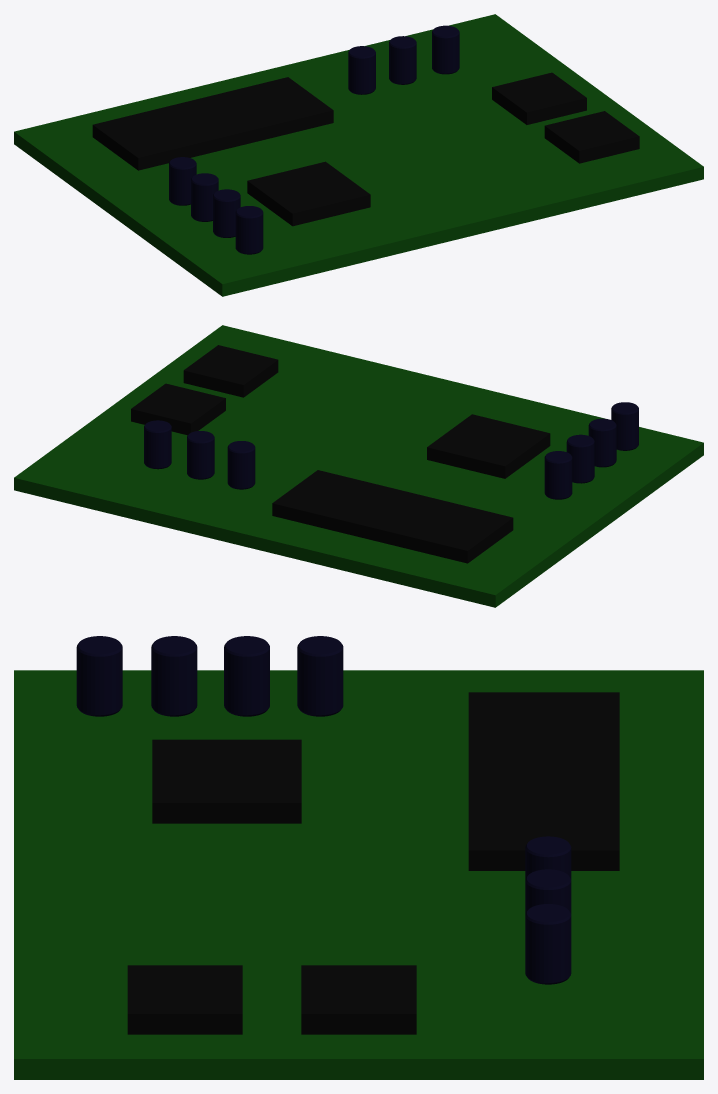
The model's file is Module-G99.obj.
The picture shows the model from 3 angles, top to bottom: view 1: azimuth 30°, elevation 25°; view 2: azimuth 150°, elevation 25°; view 3: azimuth 270°, elevation 25°; orthographic projection. The views are drawn at different scales.
Parts seen in each view (by area): view 1: MainBoard_Cube.001, Cube.002_Cube.003, Cube.004_Cube.005, Cube.003_Cube.004, Cube.001_Cube.002, Cylinder.002_Cylinder.009, Cylinder.009_Cylinder.012, Cylinder.007_Cylinder.010, Cylinder.008_Cylinder.011, Cylinder.001_Cylinder.008, Cylinder.003, Cylinder.000_Cylinder.007; view 2: MainBoard_Cube.001, Cube.002_Cube.003, Cube.004_Cube.005, Cube.003_Cube.004, Cube.001_Cube.002, Cylinder.003, Cylinder.007_Cylinder.010, Cylinder.009_Cylinder.012, Cylinder.008_Cylinder.011, Cylinder.000_Cylinder.007, Cylinder.001_Cylinder.008, Cylinder.002_Cylinder.009; view 3: MainBoard_Cube.001, Cube.002_Cube.003, Cube.004_Cube.005, Cube.001_Cube.002, Cube.003_Cube.004, Cylinder.002_Cylinder.009, Cylinder.003, Cylinder.001_Cylinder.008, Cylinder.009_Cylinder.012, Cylinder.000_Cylinder.007, Cylinder.008_Cylinder.011, Cylinder.007_Cylinder.010.
Boxes of the visible parts, x1,y1,x2,y2 form: MainBoard_Cube.001: [14, 14, 703, 296]; Cube.002_Cube.003: [92, 77, 333, 170]; Cube.004_Cube.005: [247, 161, 370, 226]; Cube.003_Cube.004: [544, 111, 639, 163]; Cube.001_Cube.002: [492, 72, 586, 124]; Cylinder.002_Cylinder.009: [235, 206, 263, 254]; Cylinder.009_Cylinder.012: [432, 25, 459, 74]; Cylinder.007_Cylinder.010: [348, 46, 375, 94]; Cylinder.008_Cylinder.011: [389, 36, 416, 84]; Cylinder.001_Cylinder.008: [213, 189, 240, 237]; Cylinder.003: [169, 157, 196, 205]; Cylinder.000_Cylinder.007: [191, 173, 218, 221]; MainBoard_Cube.001: [14, 325, 703, 607]; Cube.002_Cube.003: [272, 470, 513, 563]; Cube.004_Cube.005: [427, 414, 550, 478]; Cube.003_Cube.004: [183, 345, 278, 397]; Cube.001_Cube.002: [131, 383, 225, 435]; Cylinder.003: [544, 451, 572, 499]; Cylinder.007_Cylinder.010: [227, 441, 255, 489]; Cylinder.009_Cylinder.012: [144, 420, 171, 469]; Cylinder.008_Cylinder.011: [187, 431, 214, 479]; Cylinder.000_Cylinder.007: [566, 434, 594, 483]; Cylinder.001_Cylinder.008: [588, 418, 616, 467]; Cylinder.002_Cylinder.009: [611, 402, 638, 450]; MainBoard_Cube.001: [14, 670, 703, 1079]; Cube.002_Cube.003: [468, 692, 619, 870]; Cube.004_Cube.005: [152, 739, 301, 823]; Cube.001_Cube.002: [301, 965, 416, 1034]; Cube.003_Cube.004: [127, 965, 242, 1034]; Cylinder.002_Cylinder.009: [76, 636, 122, 716]; Cylinder.003: [297, 636, 343, 716]; Cylinder.001_Cylinder.008: [151, 636, 197, 716]; Cylinder.009_Cylinder.012: [525, 904, 571, 984]; Cylinder.000_Cylinder.007: [224, 636, 269, 716]; Cylinder.008_Cylinder.011: [525, 869, 571, 913]; Cylinder.007_Cylinder.010: [525, 836, 571, 879].
Size of the model in its own units: 4 by 0.4256 by 3.
